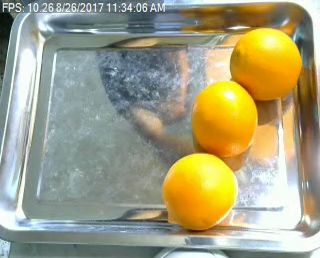Orange: (161, 152, 239, 230), (231, 26, 301, 101), (192, 80, 258, 157)
